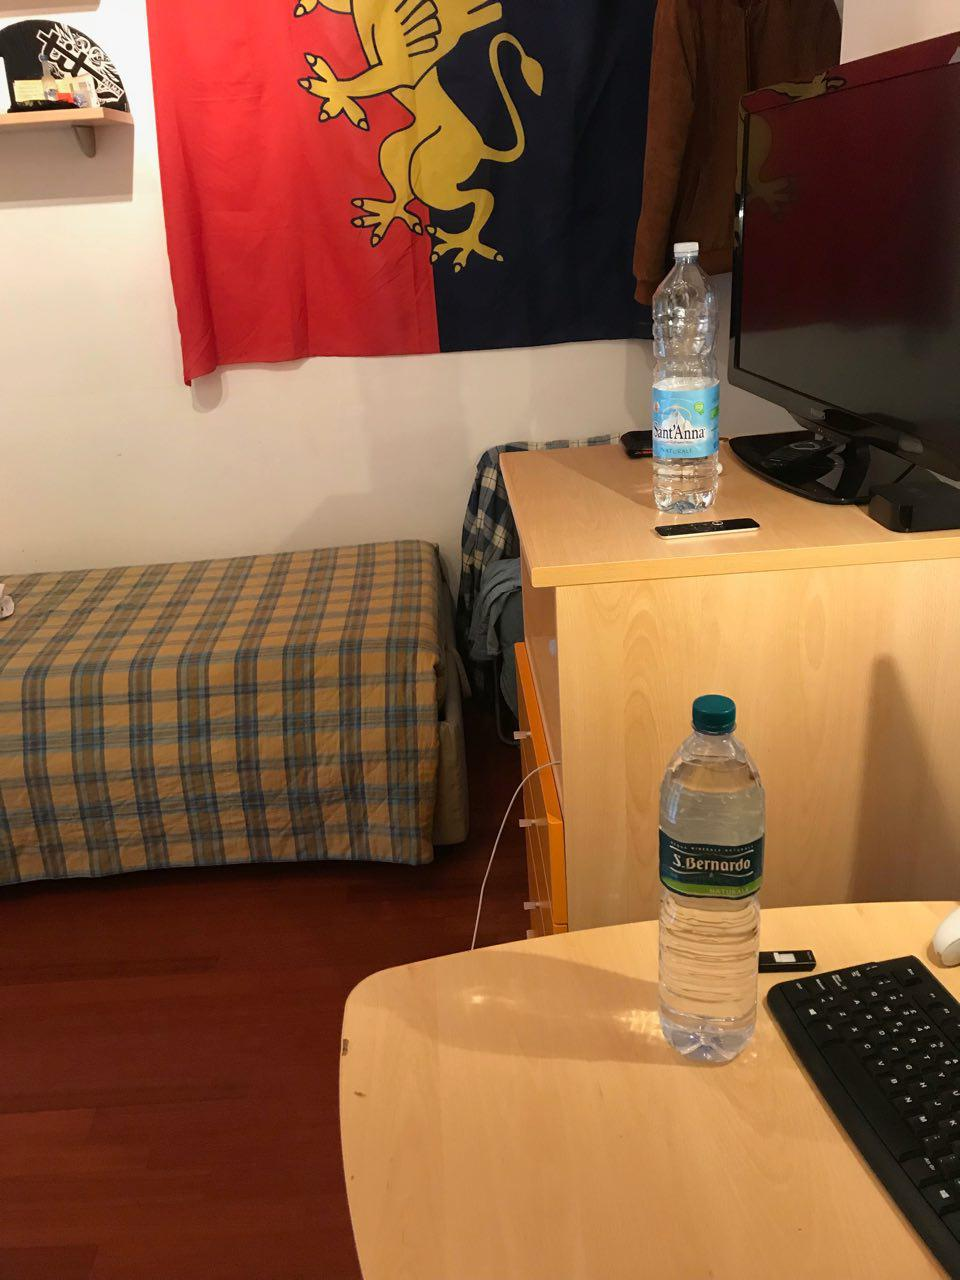san_bernardo: (658, 694, 765, 1064)
